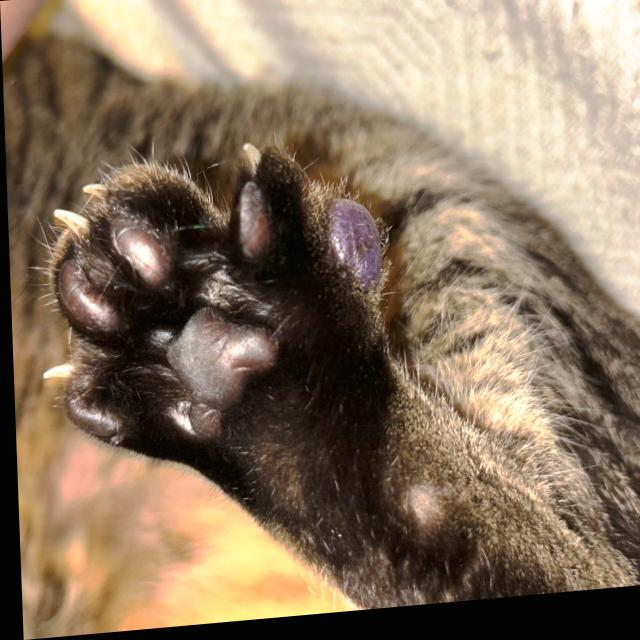lump_and_bump: (328, 198, 382, 289)
